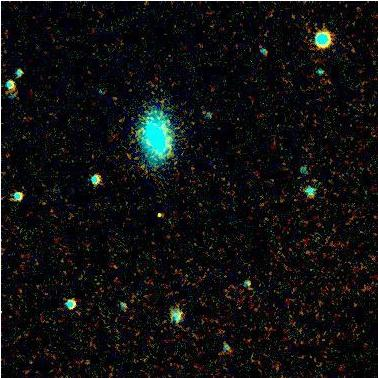star: (145, 199, 175, 229)
